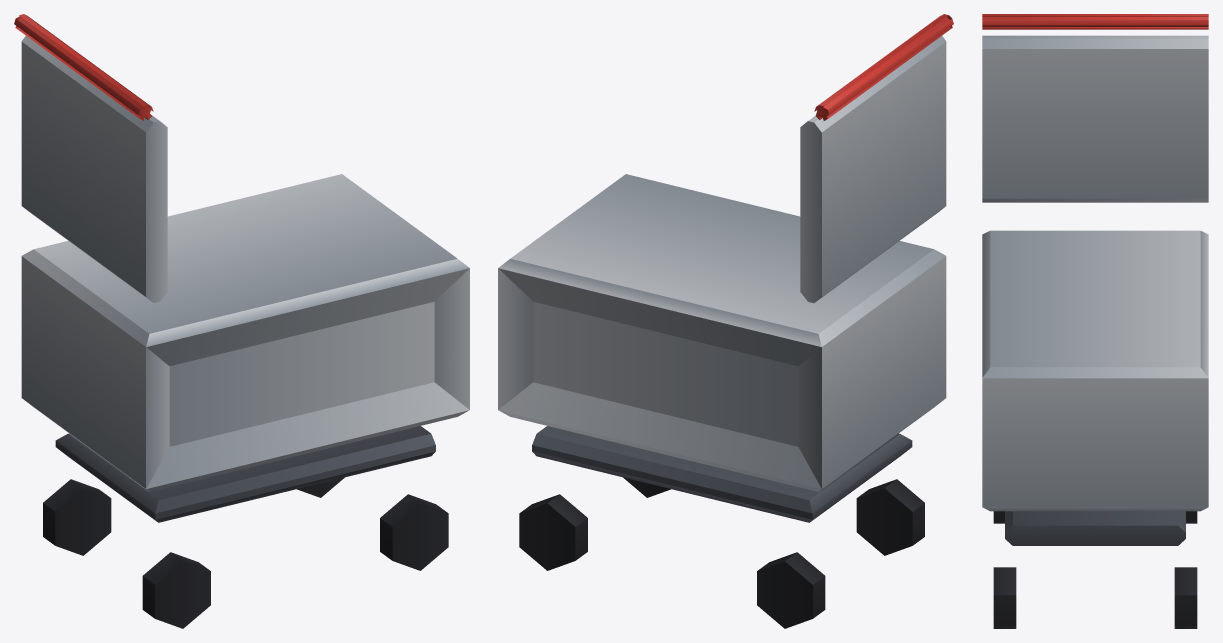
Rendered from dt_shopping_cart.fbx.
3 views of the same model, side by side, from view 1: azimuth 30°, elevation 25°; view 2: azimuth 150°, elevation 25°; view 3: azimuth 270°, elevation 25° (orthographic). The views are drawn at different scales.
Visible parts, largest first — view 1: dt_shopping_cart; view 2: dt_shopping_cart; view 3: dt_shopping_cart.
Part boxes in pixels (left/top/right/bottom): dt_shopping_cart: left=14, top=14, right=469, bottom=628; dt_shopping_cart: left=498, top=14, right=953, bottom=628; dt_shopping_cart: left=982, top=14, right=1208, bottom=628.
Size of the model in its own units: 232 by 360 by 151.
